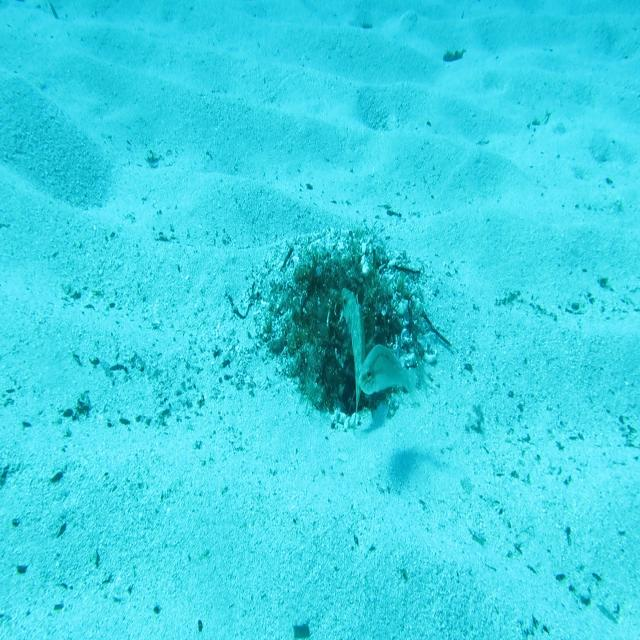FAN: (341, 286, 367, 437)
core_nest: (316, 272, 360, 306)
female: (356, 342, 428, 417)
nest: (242, 210, 440, 441)
vegetation: (441, 46, 466, 64)
